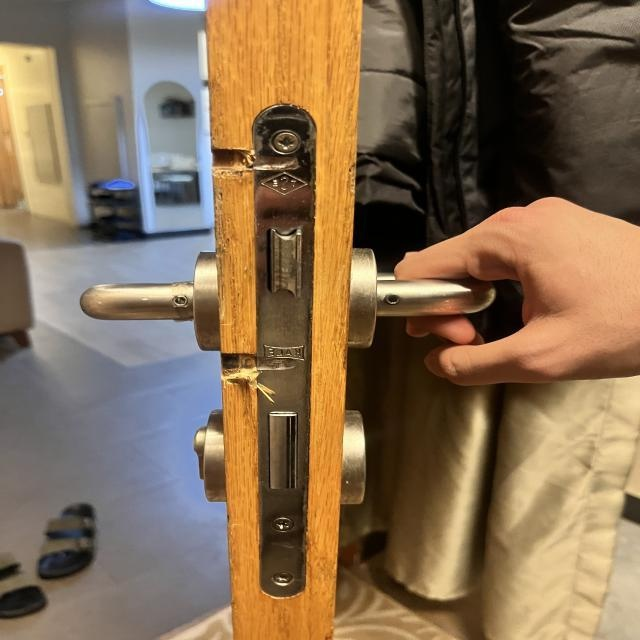phillips: (271, 517, 294, 531)
pozidriv: (272, 132, 300, 153), (273, 573, 293, 583)
